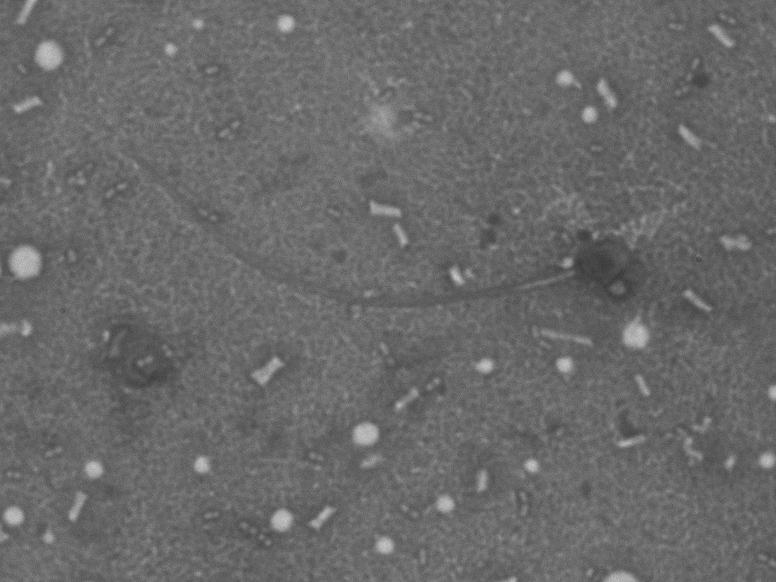Abnormal: (124, 120, 675, 331)
